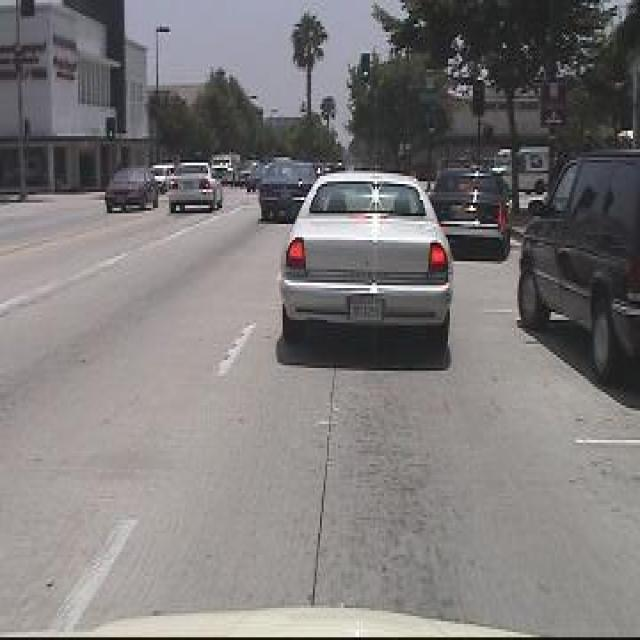car_back: (266, 156, 470, 358), (415, 158, 517, 268), (160, 153, 226, 222)
